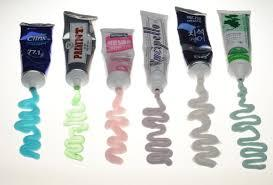toothpaste: (13, 18, 61, 95), (175, 6, 217, 84), (217, 6, 256, 84), (140, 8, 174, 97), (63, 6, 93, 94), (98, 26, 135, 94)
